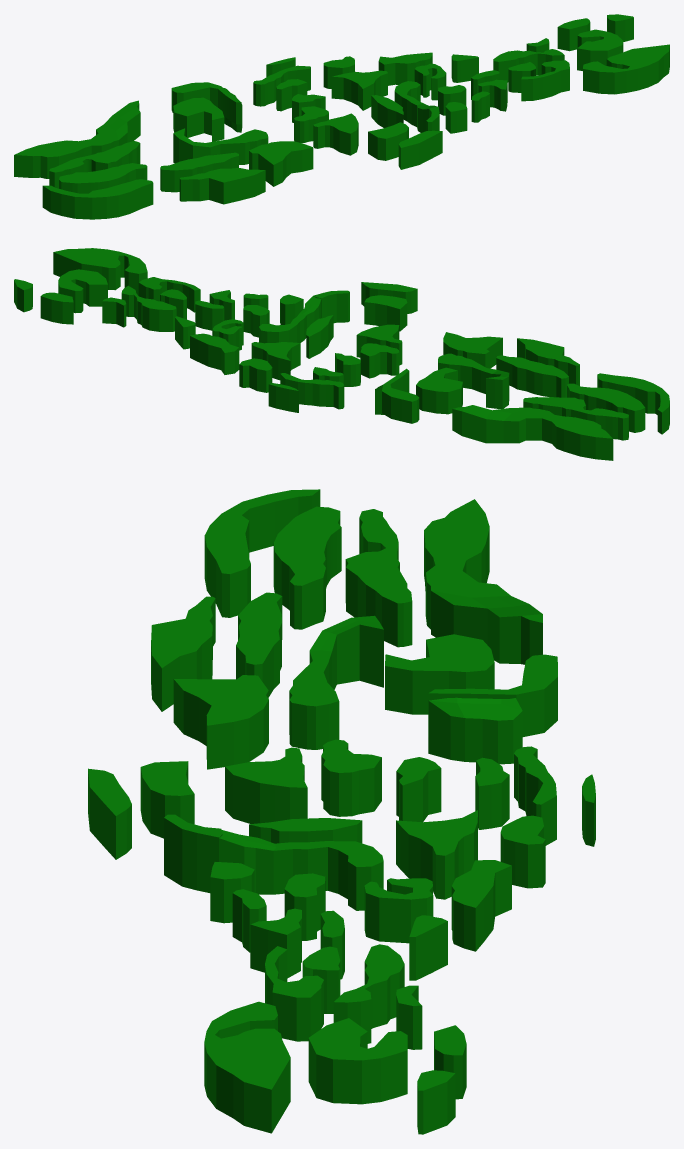
File: Terreno_1_Paredes.fbx
The picture shows the model from 3 angles, top to bottom: view 1: azimuth 30°, elevation 25°; view 2: azimuth 150°, elevation 25°; view 3: azimuth 270°, elevation 25°; orthographic projection. The views are drawn at different scales.
Parts seen in each view (by area): view 1: pCube226; view 2: pCube226; view 3: pCube226.
Part boxes in pixels (bbox=[...]): pCube226: bbox=[14, 14, 669, 219]; pCube226: bbox=[14, 248, 669, 460]; pCube226: bbox=[88, 489, 595, 1134].
Size of the model in its own units: 225 by 10.54 by 80.32.
